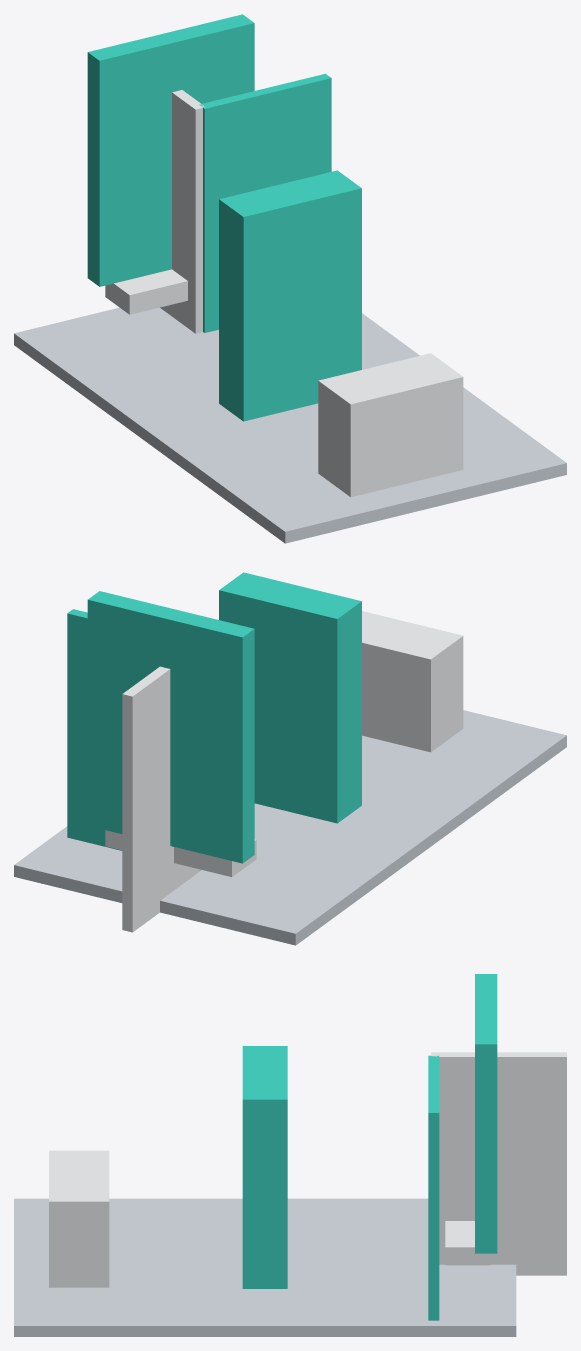
The picture shows the model from 3 angles, top to bottom: view 1: azimuth 30°, elevation 25°; view 2: azimuth 150°, elevation 25°; view 3: azimuth 270°, elevation 25°; orthographic projection. The views are drawn at different scales.
Parts seen in each view (by area): view 1: Exhibition Booth Concept; view 2: Exhibition Booth Concept; view 3: Exhibition Booth Concept.
Boxes of the visible parts, x1,y1,x2,y2 form: Exhibition Booth Concept: (14,14,566,543); Exhibition Booth Concept: (14,572,566,945); Exhibition Booth Concept: (14,974,566,1336).
Size of the model in its own units: 3 by 2.9 by 5.51.
